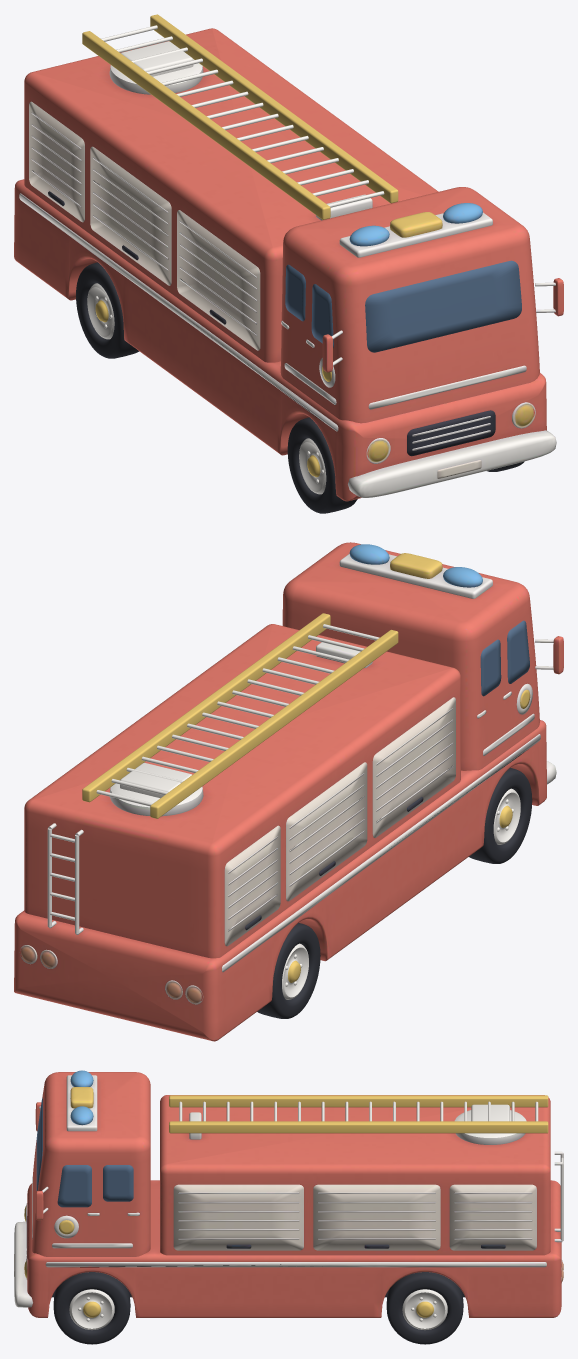
Rendered from fire-truck.glb.
3 renders of one model, top to bottom at view 1: azimuth 30°, elevation 25°; view 2: azimuth 150°, elevation 25°; view 3: azimuth 270°, elevation 25°, orthographic. The views are drawn at different scales.
Visible parts, largest first — view 1: fire-truck_body, fire-truck_ladder, fire-truck_windows, fire-truck_wheel_fr, fire-truck_wheel_rr; view 2: fire-truck_body, fire-truck_ladder, fire-truck_wheel_rr, fire-truck_wheel_fr, fire-truck_windows; view 3: fire-truck_body, fire-truck_ladder, fire-truck_wheel_fl, fire-truck_wheel_rl, fire-truck_windows.
Boxes of the visible parts, <box> form: fire-truck_body: <box>14,28,563,501</box>; fire-truck_ladder: <box>82,14,398,219</box>; fire-truck_windows: <box>285,260,521,352</box>; fire-truck_wheel_fr: <box>287,417,357,513</box>; fire-truck_wheel_rr: <box>76,262,139,358</box>; fire-truck_body: <box>14,542,563,1041</box>; fire-truck_ladder: <box>82,613,398,818</box>; fire-truck_wheel_rr: <box>257,922,320,1018</box>; fire-truck_wheel_fr: <box>469,768,532,863</box>; fire-truck_windows: <box>480,620,529,696</box>; fire-truck_body: <box>14,1070,563,1317</box>; fire-truck_ladder: <box>169,1095,548,1133</box>; fire-truck_wheel_fl: <box>53,1272,130,1344</box>; fire-truck_wheel_rl: <box>386,1272,463,1344</box>; fire-truck_windows: <box>36,1098,133,1207</box>.
Size of the model in its own units: 2.8 by 3.1 by 7.13.
16 materials, 1 textured.
